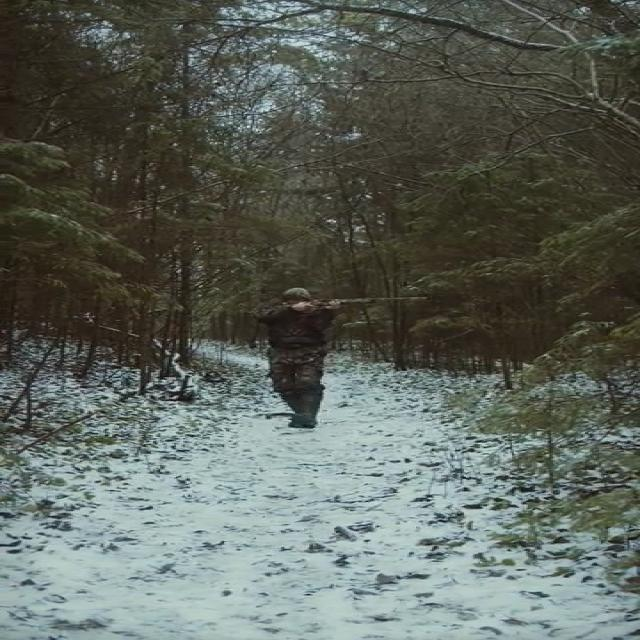Gun_Holder: (296, 298, 432, 311)
Person: (254, 285, 341, 429)
